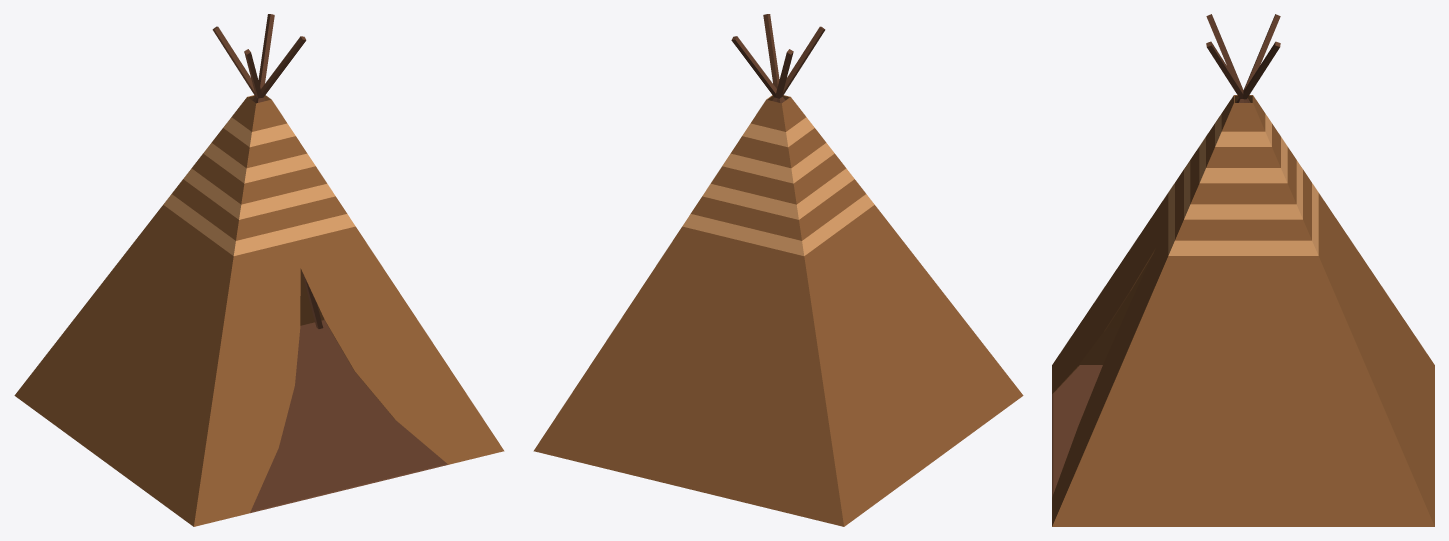
File: Tipi_Square.fbx
3 views of the same model, side by side, from view 1: azimuth 30°, elevation 25°; view 2: azimuth 150°, elevation 25°; view 3: azimuth 270°, elevation 25° (orthographic). The views are drawn at different scales.
Parts seen in each view (by area): view 1: Tipi_Square; view 2: Tipi_Square; view 3: Tipi_Square.
Boxes of the visible parts, box(x1,y1,x2,y2) form: Tipi_Square: box(14, 14, 504, 526); Tipi_Square: box(533, 14, 1023, 526); Tipi_Square: box(1052, 14, 1434, 526).
Bounding box in the file's own units: 0.5 × 0.6027 × 0.5.
